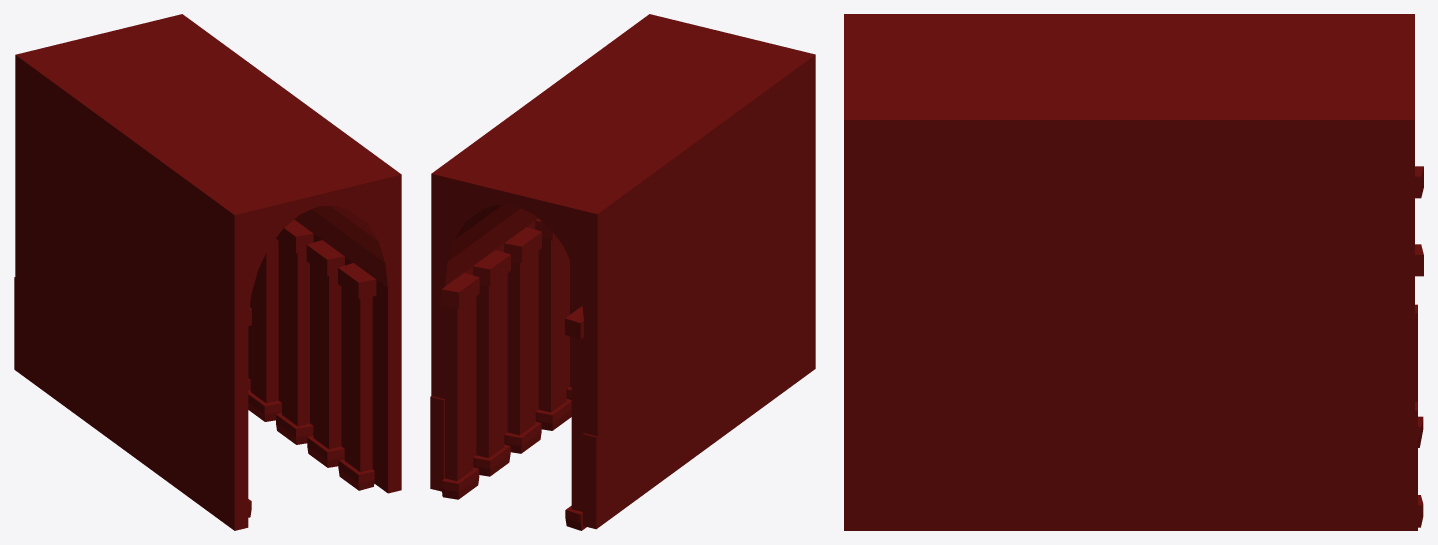
File: pasillo_rojo.fbx
3 renders of one model, left to right at view 1: azimuth 30°, elevation 25°; view 2: azimuth 150°, elevation 25°; view 3: azimuth 270°, elevation 25°, orthographic. The views are drawn at different scales.
Visible parts, largest first — view 1: pasillo; view 2: pasillo; view 3: pasillo.
Part boxes in pixels (x1,y1,x2,y2): pasillo: (14, 14, 401, 530); pasillo: (430, 14, 815, 530); pasillo: (844, 14, 1423, 530).
Bounding box in the file's own units: 16191 × 29632 × 37403.
